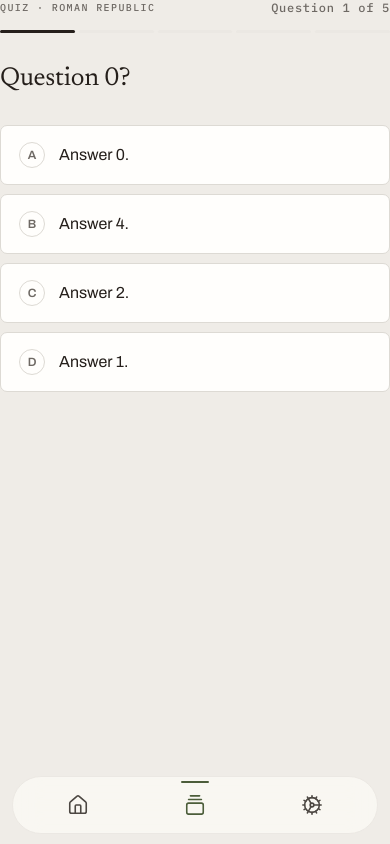
Test case: the floating tab bar › still asks before a tab leaves a quiz with answers in it
Click the button "A Answer 0." at (94, 154), box [0,125,389,185]
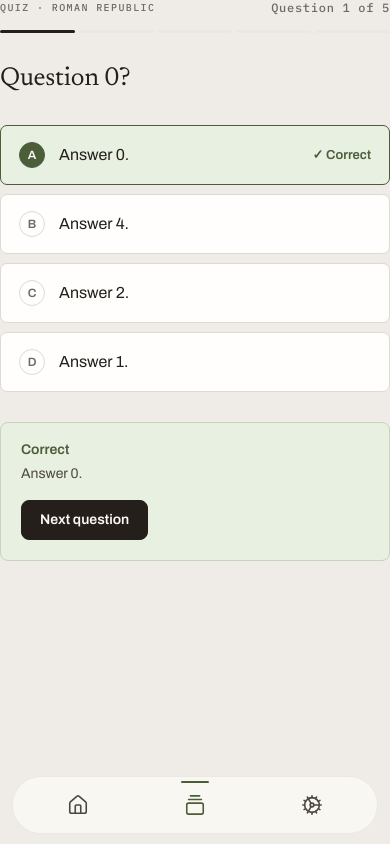
Click the 2nd link named "Decks" at (209, 802), box [181,781,237,824]
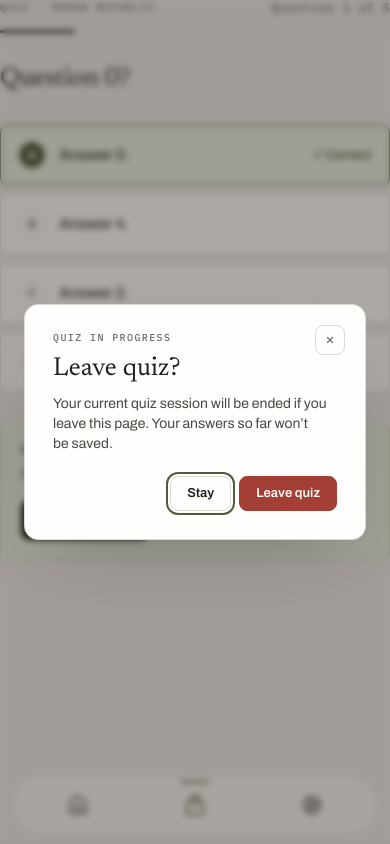
expect the dialog "Leave quiz?" is shown: met, box [24,304,366,540]
